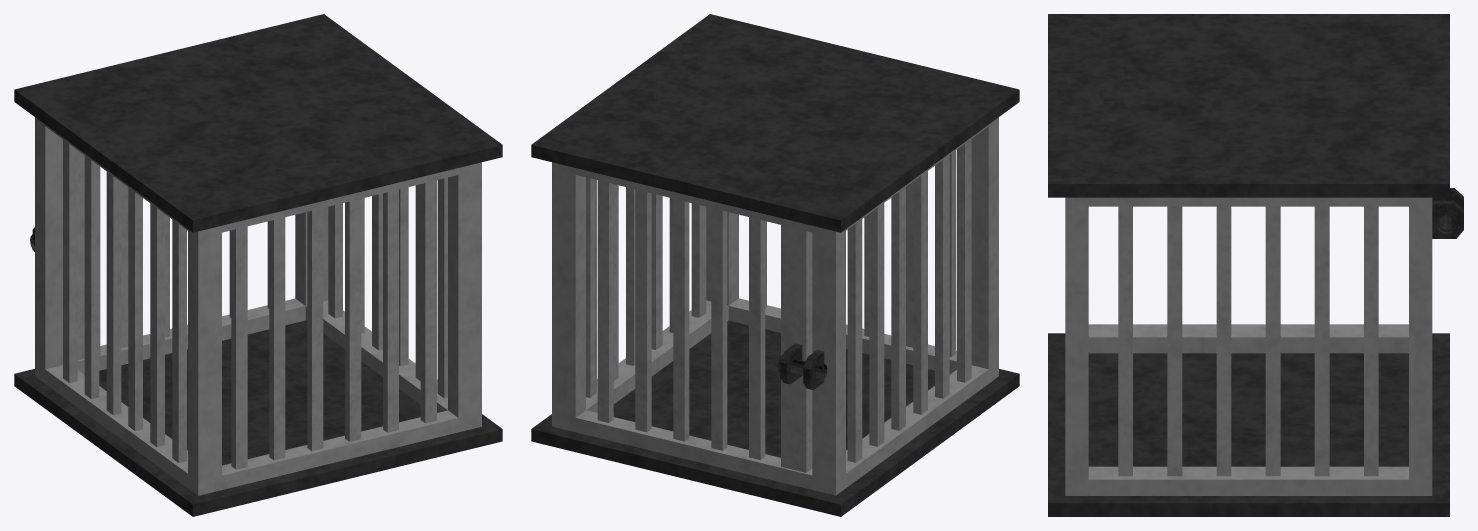
Rendered from Cela.fbx.
3 views of the same model, side by side, from view 1: azimuth 30°, elevation 25°; view 2: azimuth 150°, elevation 25°; view 3: azimuth 270°, elevation 25° (orthographic). The views are drawn at different scales.
Visible parts, largest first — view 1: Cube; view 2: Cube; view 3: Cube.
Boxes of the visible parts, bbox=[...] form: Cube: bbox=[14, 14, 502, 516]; Cube: bbox=[531, 14, 1019, 516]; Cube: bbox=[1048, 14, 1463, 516].
Size of the model in its own units: 439 by 401 by 454.
